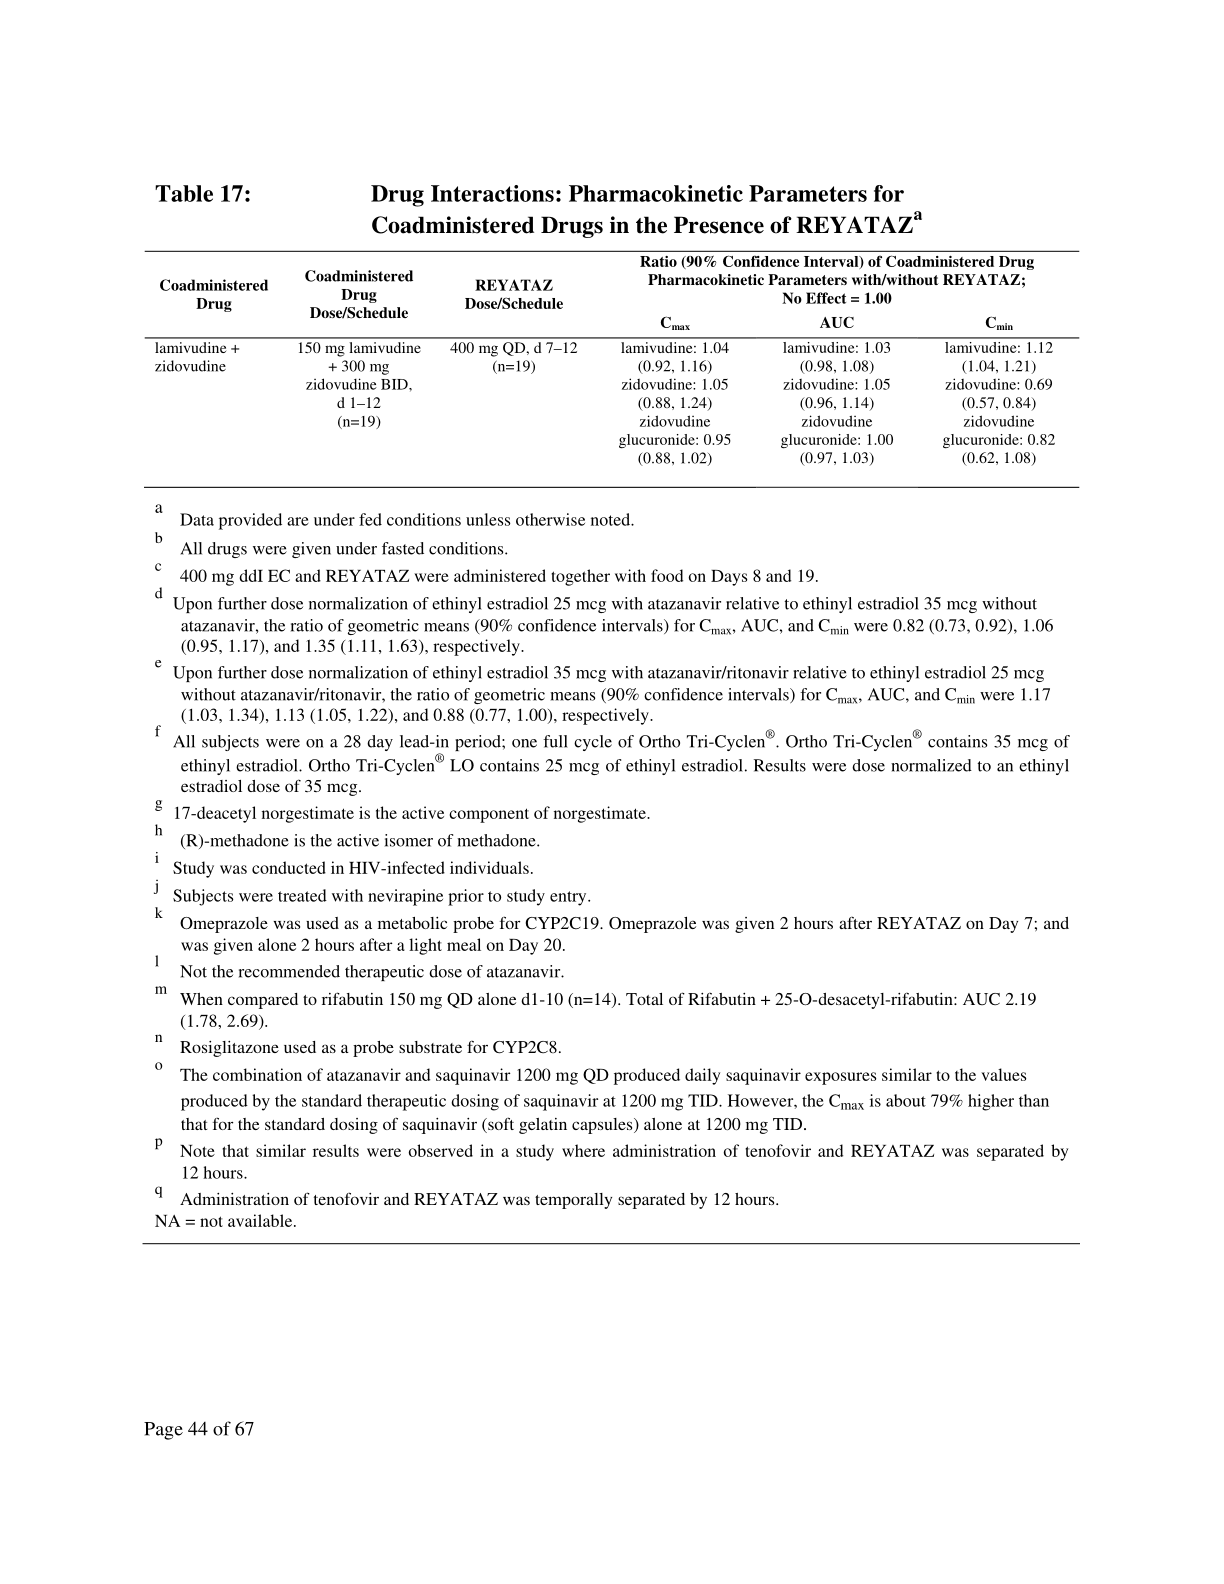partial_lined_merged_cells: (141, 248, 1081, 489)
